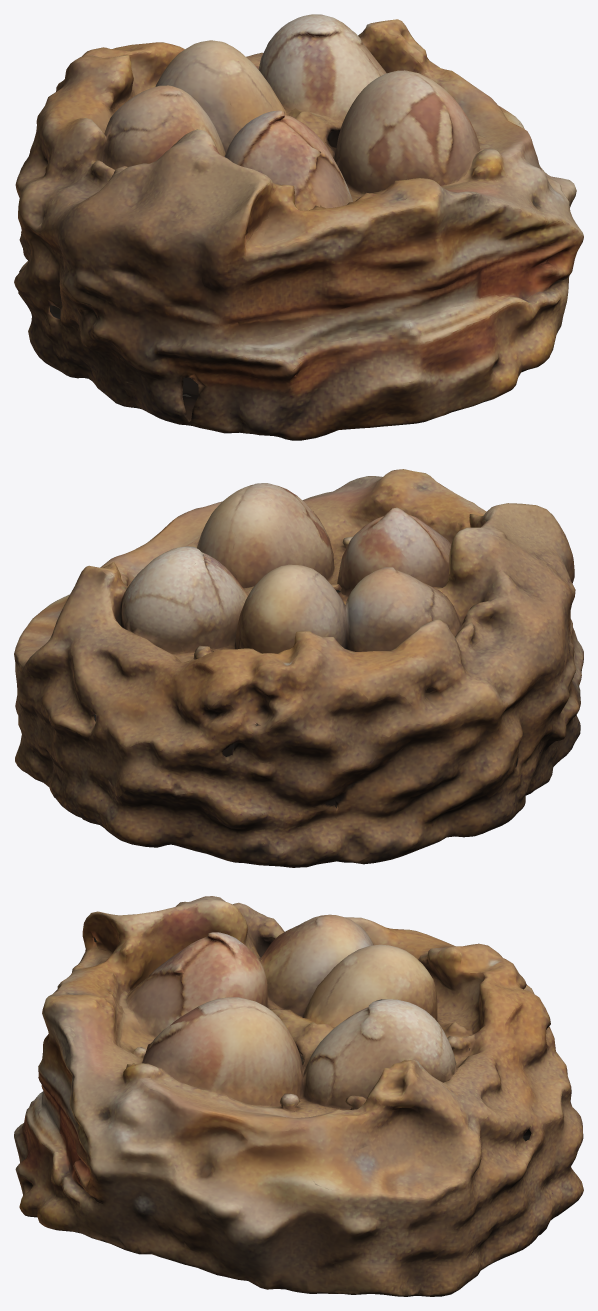
3 views of the same model, one above another, from view 1: azimuth 30°, elevation 25°; view 2: azimuth 150°, elevation 25°; view 3: azimuth 270°, elevation 25° (orthographic). The views are drawn at different scales.
Parts seen in each view (by area): view 1: world; view 2: world; view 3: world.
Part boxes in pixels (box(x1,y1,x2,y2)): world: box(14, 14, 583, 440); world: box(14, 469, 583, 867); world: box(14, 896, 583, 1296).
Size of the model in its own units: 1.71 by 0.8792 by 1.76.
1 material, 1 textured.
